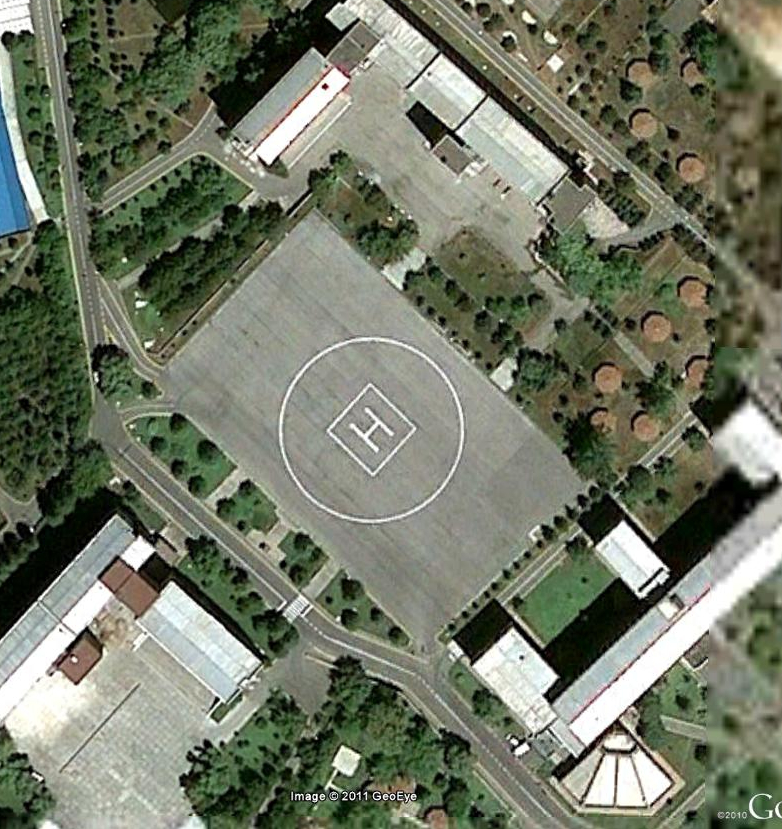heliport: (345, 405, 396, 454)
